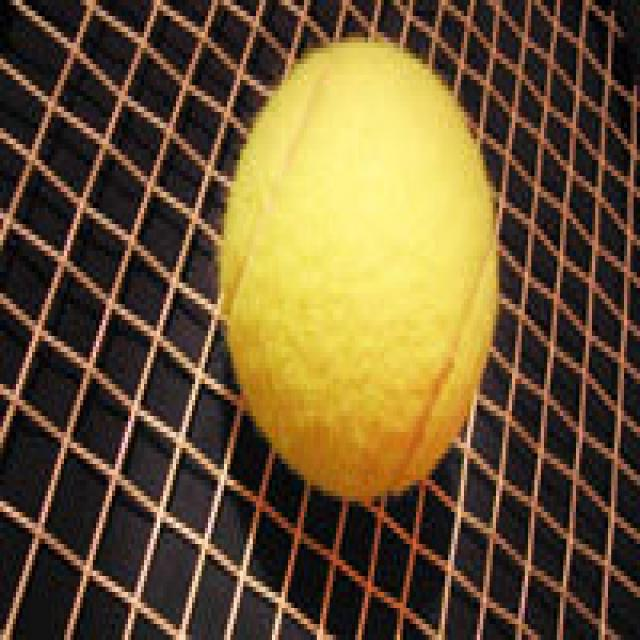Tennis Ball: (214, 37, 499, 507)
